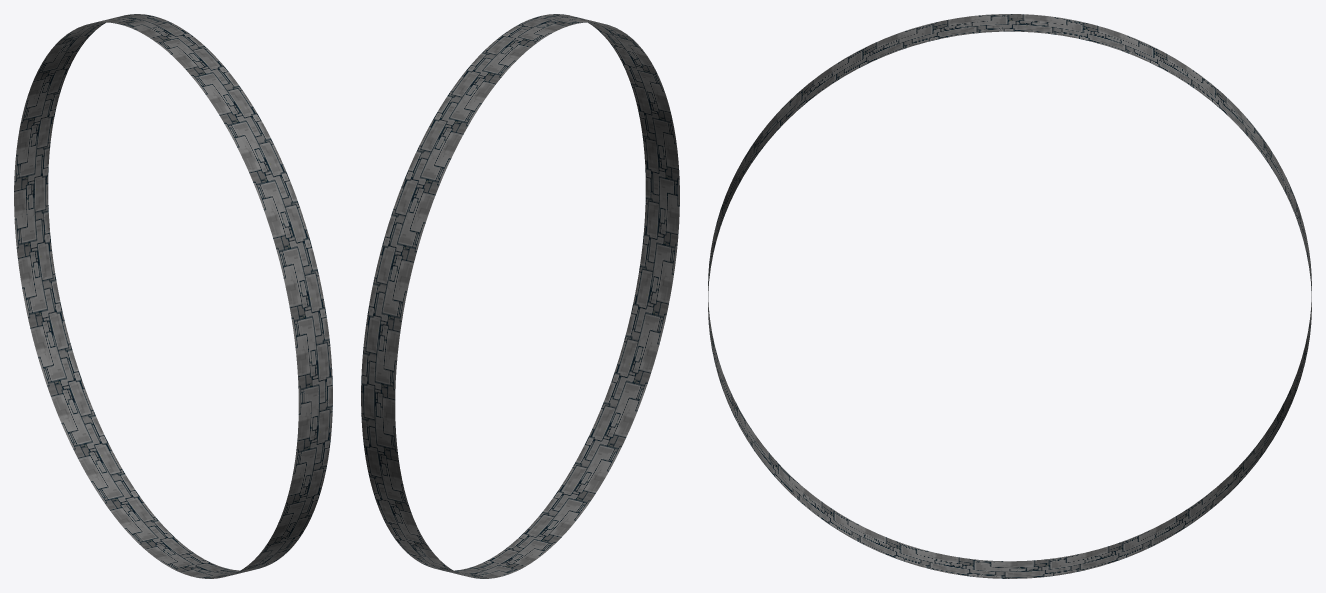
The model's file is halo.glb.
3 views of the same model, side by side, from view 1: azimuth 30°, elevation 25°; view 2: azimuth 150°, elevation 25°; view 3: azimuth 270°, elevation 25° (orthographic). The views are drawn at different scales.
Visible parts, largest first — view 1: halo; view 2: halo; view 3: halo.
Boxes of the visible parts, box(x1,y1,x2,y2) form: halo: box(14, 14, 332, 578); halo: box(361, 14, 679, 578); halo: box(708, 14, 1311, 578).
Bounding box in the file's own units: 6.06 × 87.49 × 87.49.
1 material, 1 textured.
